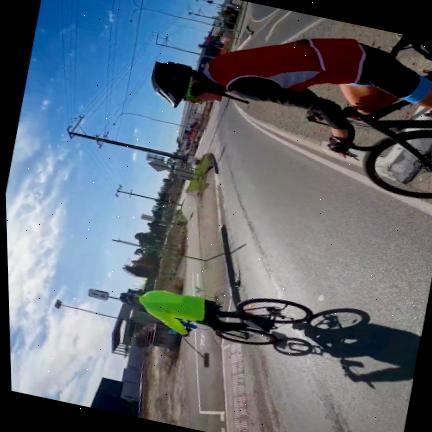Bike_Lane: (178, 326, 228, 432), (184, 263, 215, 298)
